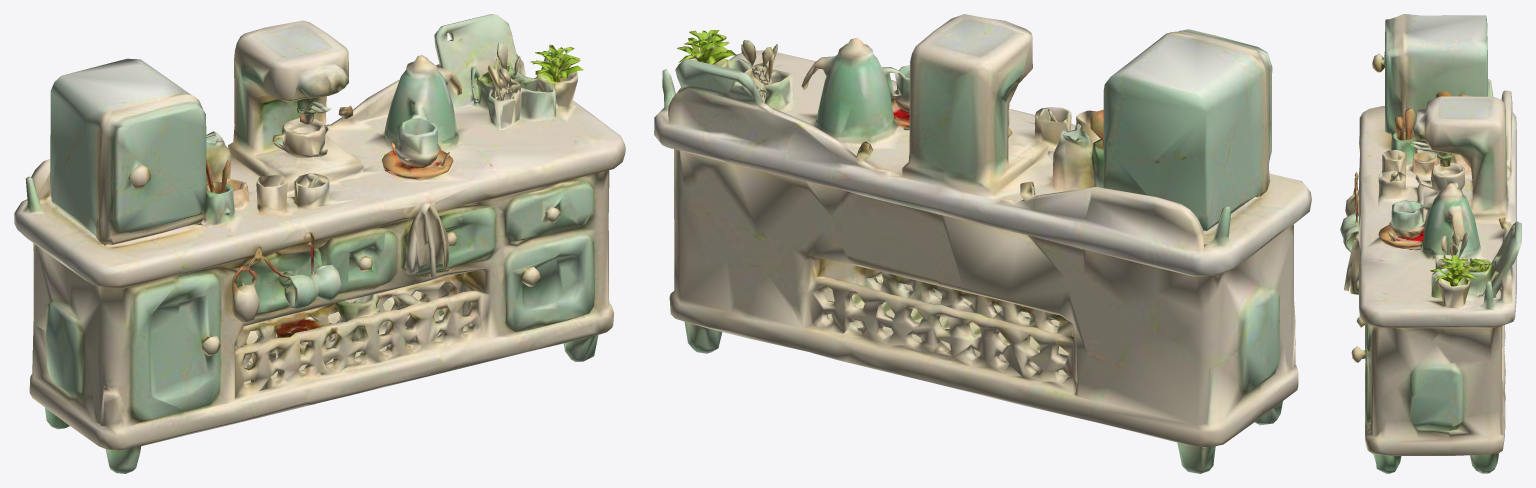
The model's file is pantry.glb.
3 renders of one model, left to right at view 1: azimuth 30°, elevation 25°; view 2: azimuth 150°, elevation 25°; view 3: azimuth 270°, elevation 25°, orthographic. The views are drawn at different scales.
Size of the model in its own units: 1.89 by 1.18 by 0.6941.
1 material, 1 textured.
